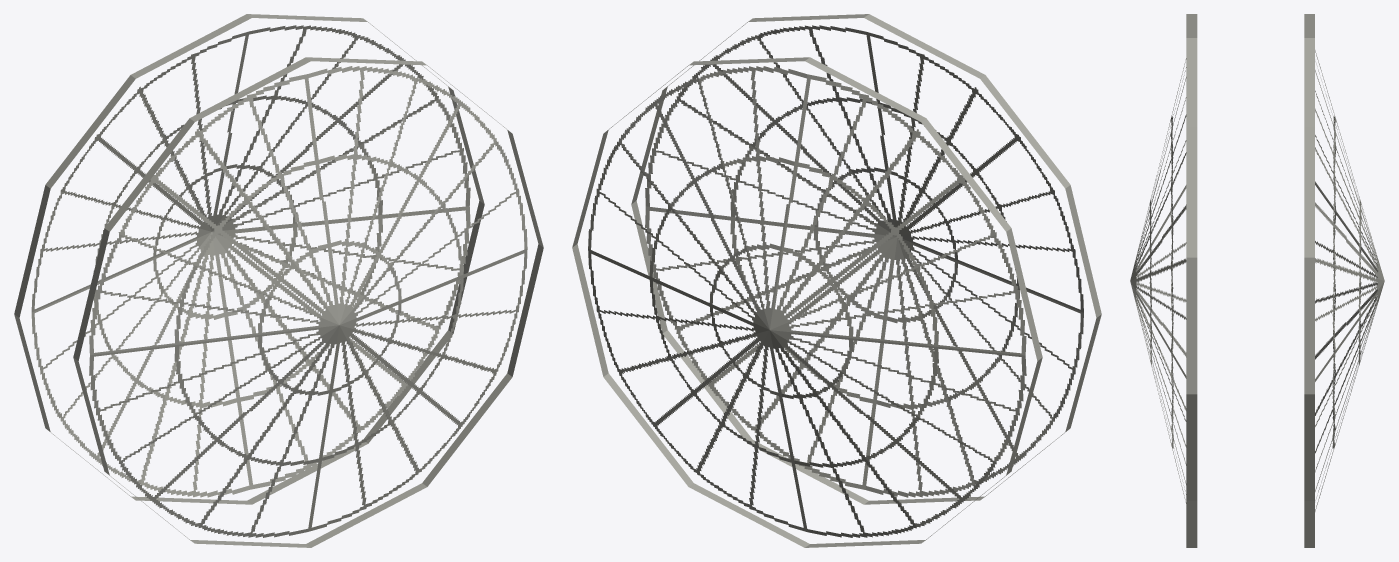
Rendered from QuatCay_DauQuat.glb.
The picture shows the model from 3 angles, left to right: view 1: azimuth 30°, elevation 25°; view 2: azimuth 150°, elevation 25°; view 3: azimuth 270°, elevation 25°; orthographic projection.
Parts seen in each view (by area): view 1: QuatCay_DauQuat; view 2: QuatCay_DauQuat; view 3: QuatCay_DauQuat.
Boxes of the visible parts, x1,y1,x2,y2 form: QuatCay_DauQuat: (14,14,543,547); QuatCay_DauQuat: (572,14,1101,547); QuatCay_DauQuat: (1130,14,1384,547).
Bounding box in the file's own units: 0.4 × 0.4 × 0.19.
Materials: 1 (1 with a texture image).
